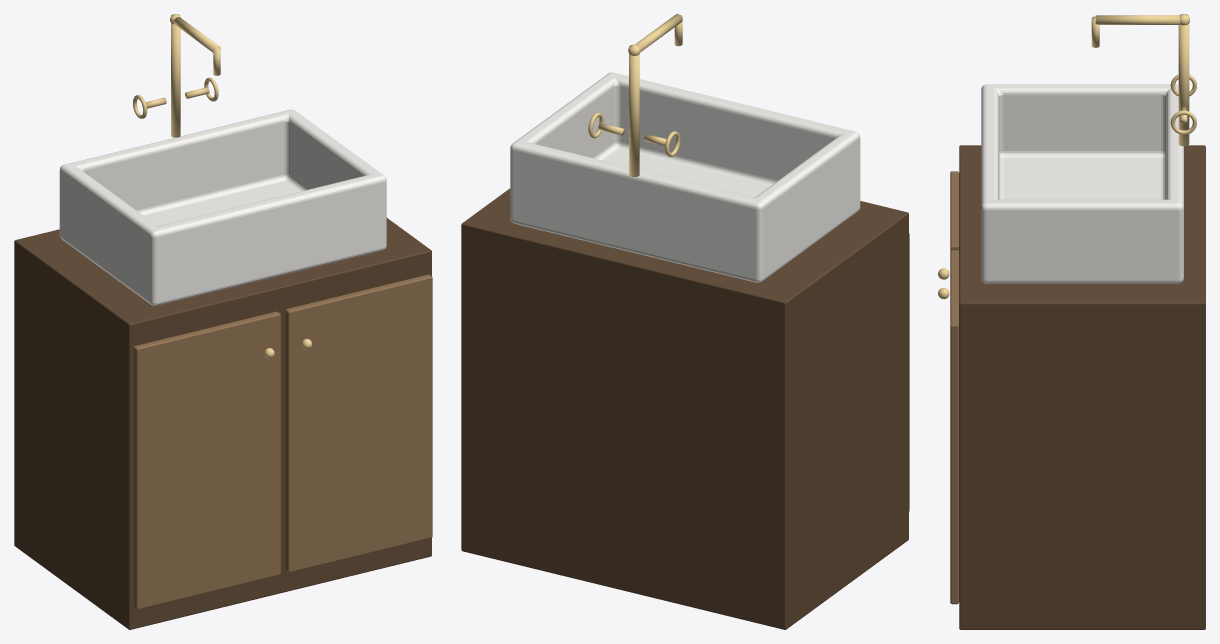
The model's file is sink_unit.gltf.
3 renders of one model, left to right at view 1: azimuth 30°, elevation 25°; view 2: azimuth 150°, elevation 25°; view 3: azimuth 270°, elevation 25°, orthographic. The views are drawn at different scales.
Visible parts, largest first — view 1: Base, Basin, Door1.001, Door0.001, TapRiser; view 2: Base, Basin, TapRiser; view 3: Base, Basin, Door1.001, TapRiser, TapArm, Door0.001.
Boxes of the visible parts, x1,y1,x2,y2 form: Base: [14, 218, 431, 629]; Basin: [59, 109, 386, 305]; Door1.001: [285, 274, 432, 572]; Door0.001: [133, 311, 280, 609]; TapRiser: [171, 14, 180, 137]; Base: [461, 188, 908, 629]; Basin: [510, 72, 860, 282]; TapRiser: [629, 44, 639, 176]; Base: [959, 145, 1205, 629]; Basin: [981, 84, 1183, 283]; Door1.001: [950, 250, 959, 604]; TapRiser: [1178, 14, 1189, 146]; TapArm: [1095, 15, 1180, 24]; Door0.001: [950, 171, 959, 251].
Size of the model in its own units: 0.85 by 1.34 by 0.608.
